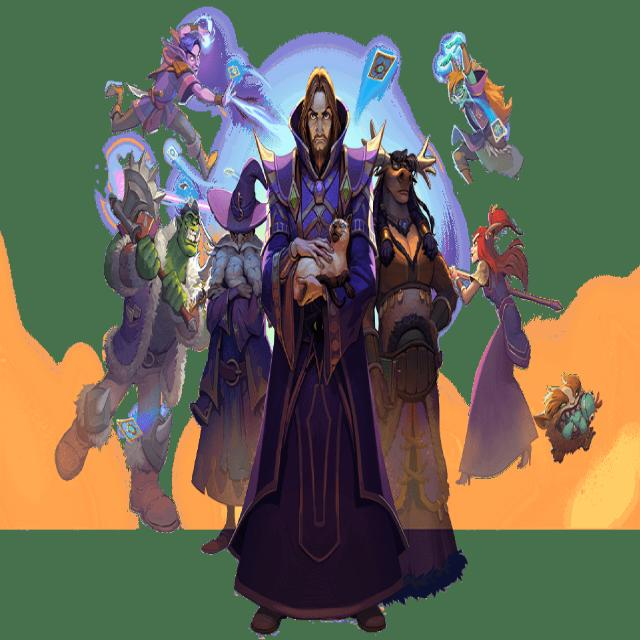Background Image: (1, 2, 638, 635)
Mascot: (225, 64, 410, 634), (54, 147, 205, 532), (448, 202, 563, 485), (104, 16, 227, 180), (432, 29, 524, 185)
Seal or Badge: (366, 48, 397, 82)
Text Elements: (296, 375, 343, 562)
